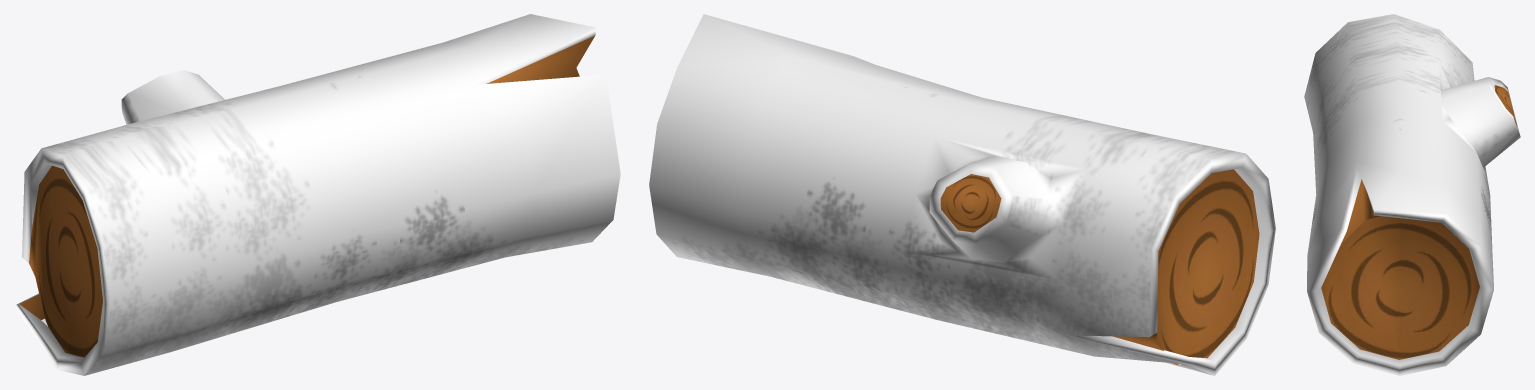
File: Gum Wood.fbx
3 views of the same model, side by side, from view 1: azimuth 30°, elevation 25°; view 2: azimuth 150°, elevation 25°; view 3: azimuth 270°, elevation 25° (orthographic). The views are drawn at different scales.
Parts seen in each view (by area): view 1: LogDrop; view 2: LogDrop; view 3: LogDrop.
Part boxes in pixels (<box>): LogDrop: <box>14,14,620,375</box>; LogDrop: <box>649,14,1275,375</box>; LogDrop: <box>1304,14,1520,375</box>.
Bounding box in the file's own units: 1.54 × 0.6219 × 0.6813.
Materials: 2 (2 with a texture image).
